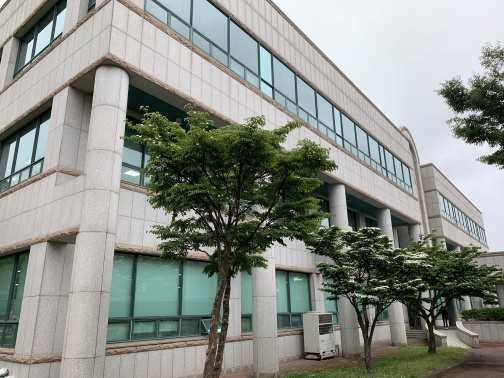Second Library: (13, 7, 488, 365)
